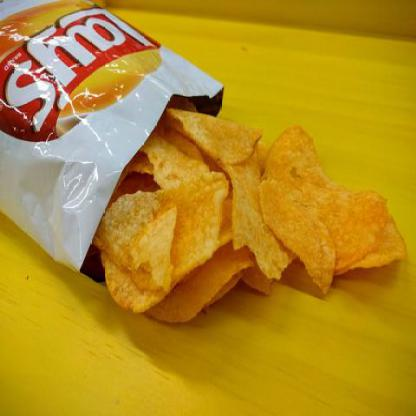potatochip: (0, 0, 227, 292)
